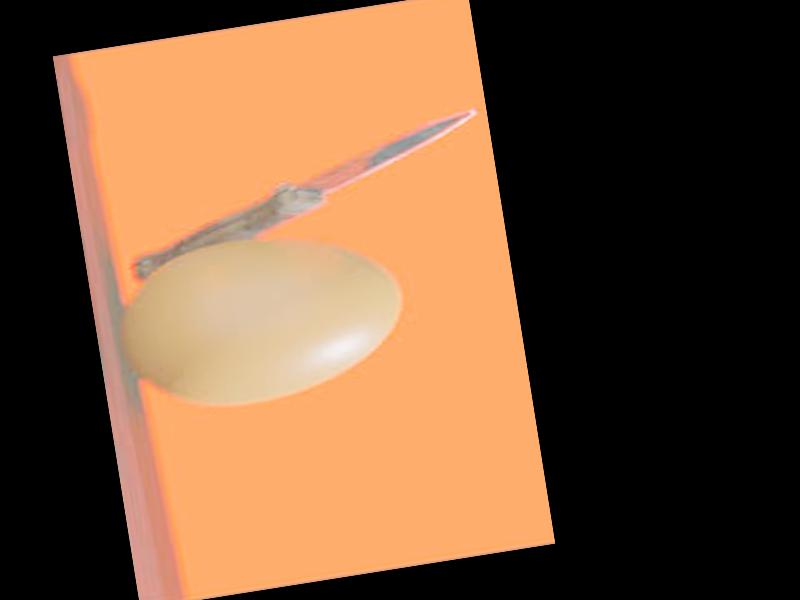Eggs: (115, 218, 409, 418)
